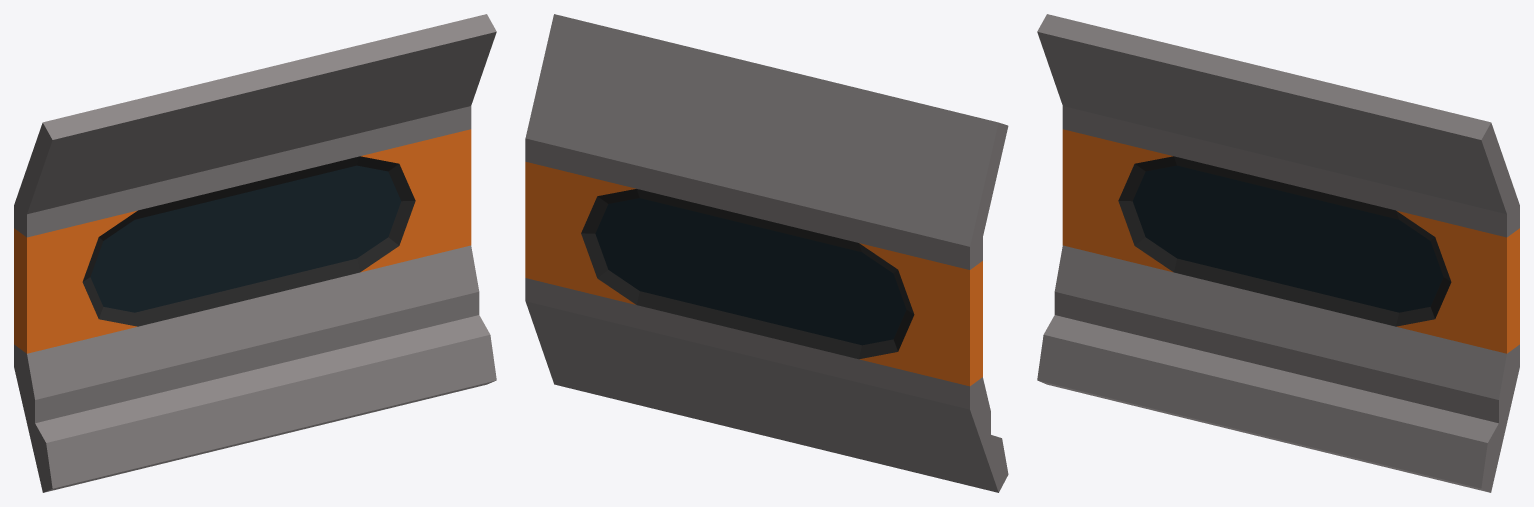
Rendered from scifi-window-corridor-stripe.glb.
3 renders of one model, left to right at view 1: azimuth 30°, elevation 25°; view 2: azimuth 150°, elevation 25°; view 3: azimuth 330°, elevation 25°, orthographic.
Parts seen in each view (by area): view 1: scifi-window-corridor-stripe; view 2: scifi-window-corridor-stripe; view 3: scifi-window-corridor-stripe.
Part boxes in pixels (<box>): scifi-window-corridor-stripe: <box>14,14,496,492</box>; scifi-window-corridor-stripe: <box>525,14,1008,492</box>; scifi-window-corridor-stripe: <box>1037,14,1519,492</box>.
Size of the model in its own units: 4 by 3.19 by 0.6.
Materials: 1 (1 with a texture image).
